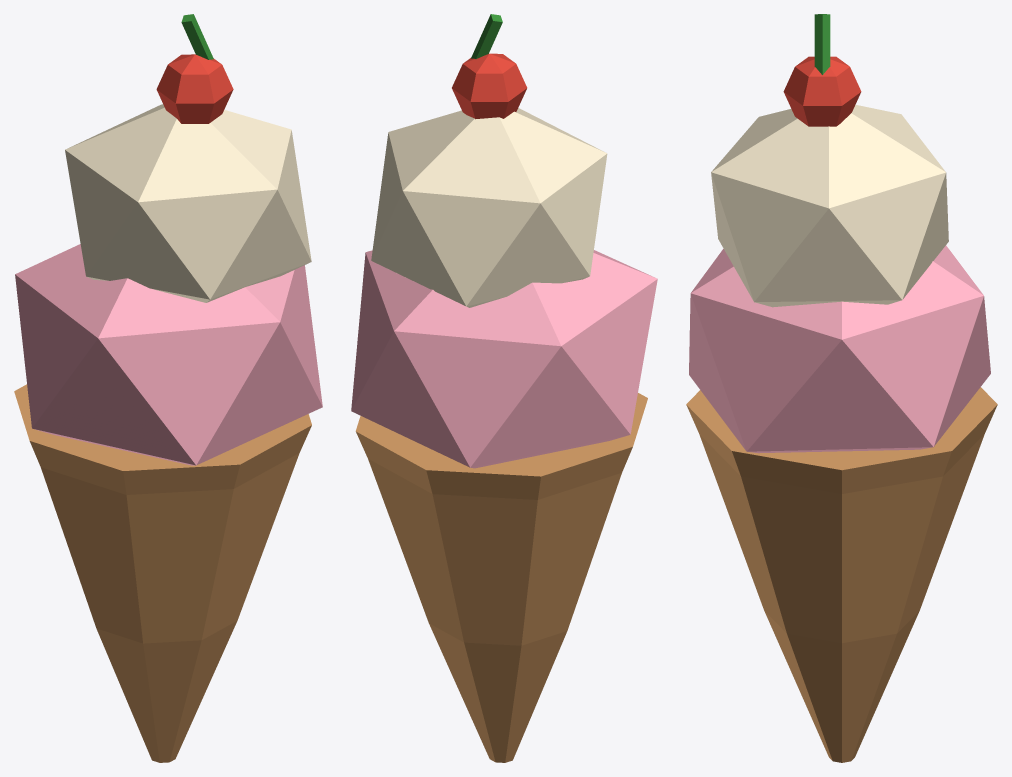
Rendered from ice.glb.
3 views of the same model, side by side, from view 1: azimuth 30°, elevation 25°; view 2: azimuth 150°, elevation 25°; view 3: azimuth 270°, elevation 25° (orthographic). The views are drawn at different scales.
Visible parts, largest first — view 1: eis; view 2: eis; view 3: eis.
Boxes of the visible parts, x1,y1,x2,y2 form: eis: (14, 14, 322, 762); eis: (351, 14, 657, 762); eis: (686, 14, 997, 762).
Bounding box in the file's own units: 0.4896 × 1.28 × 0.48.
